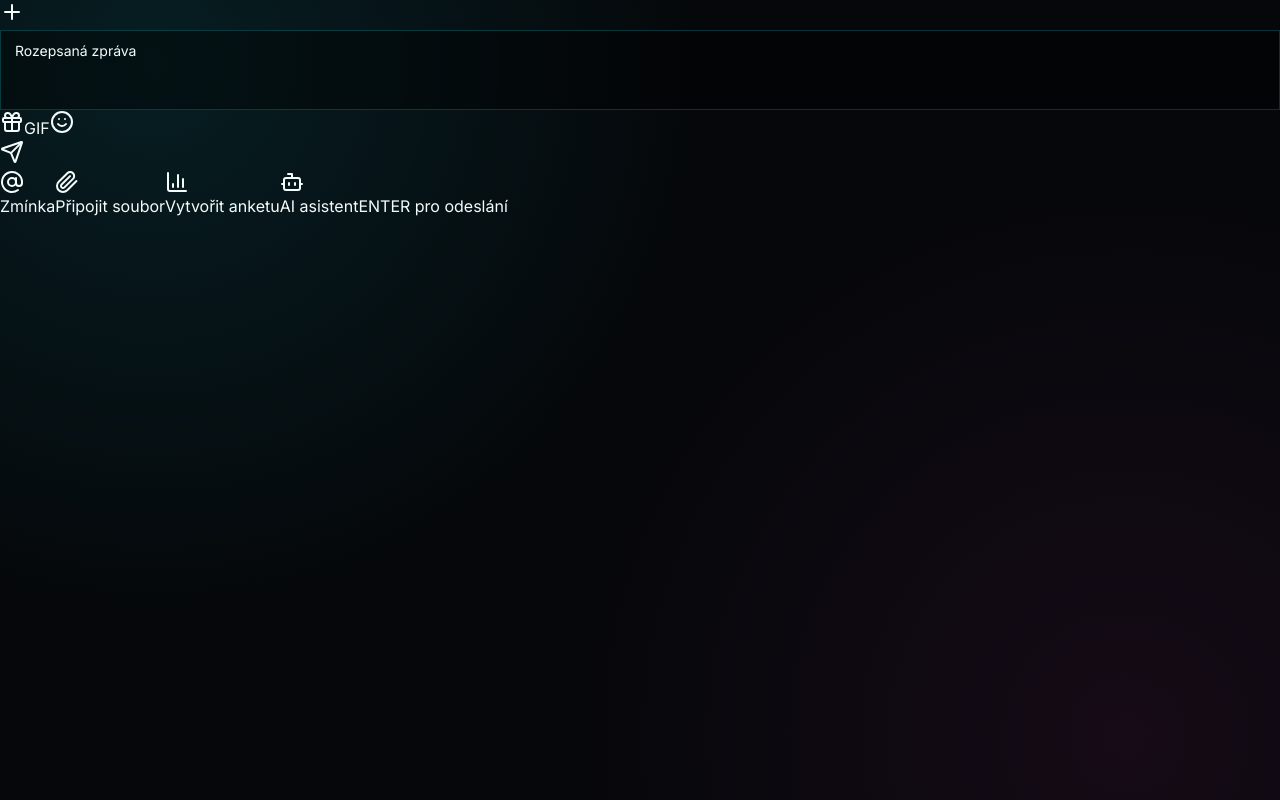
Test: community composer › rejects non-HTTPS GIF URLs without discarding the draft
Step 1. Click the button titled "Vložit GIF" → x=37, y=128, box [24, 116, 50, 140]
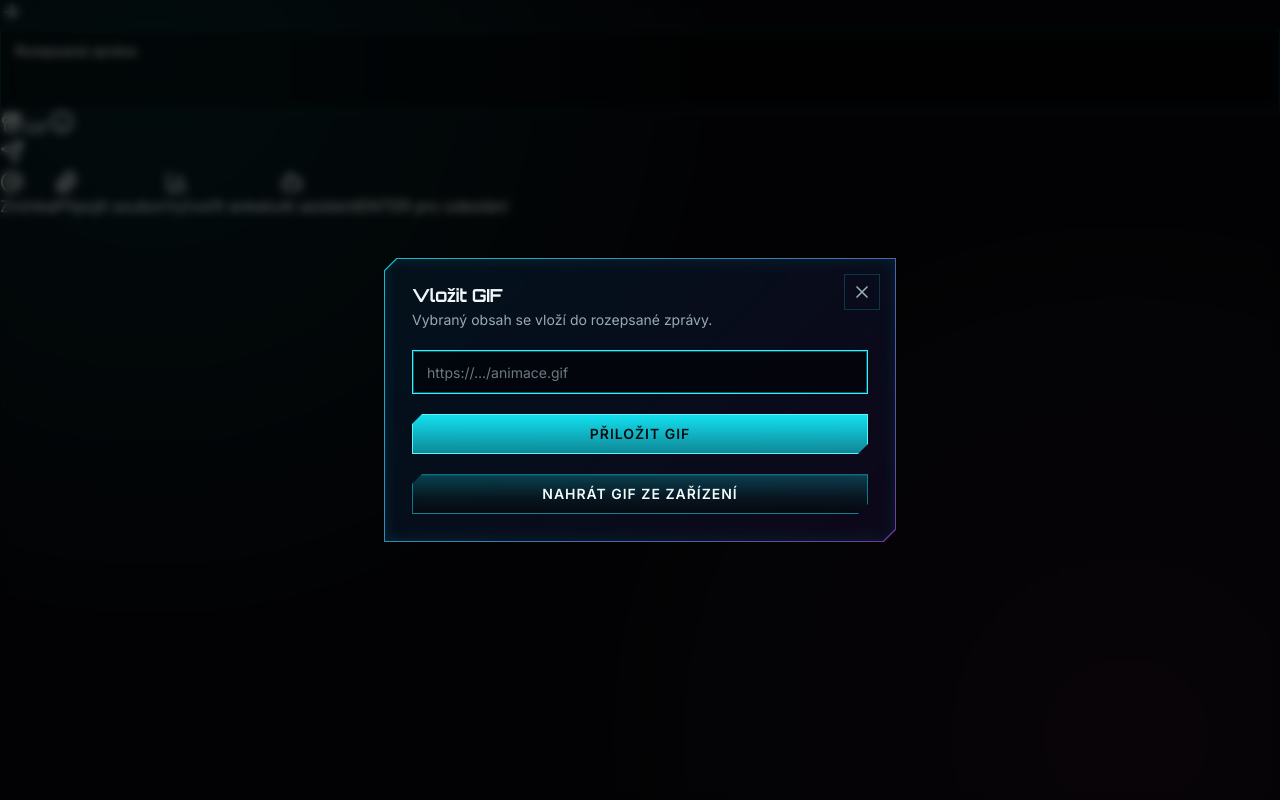
Step 2. Type "javascript:alert(1)" into the field named "HTTPS odkaz na GIF" → x=640, y=372, box [412, 350, 868, 394]
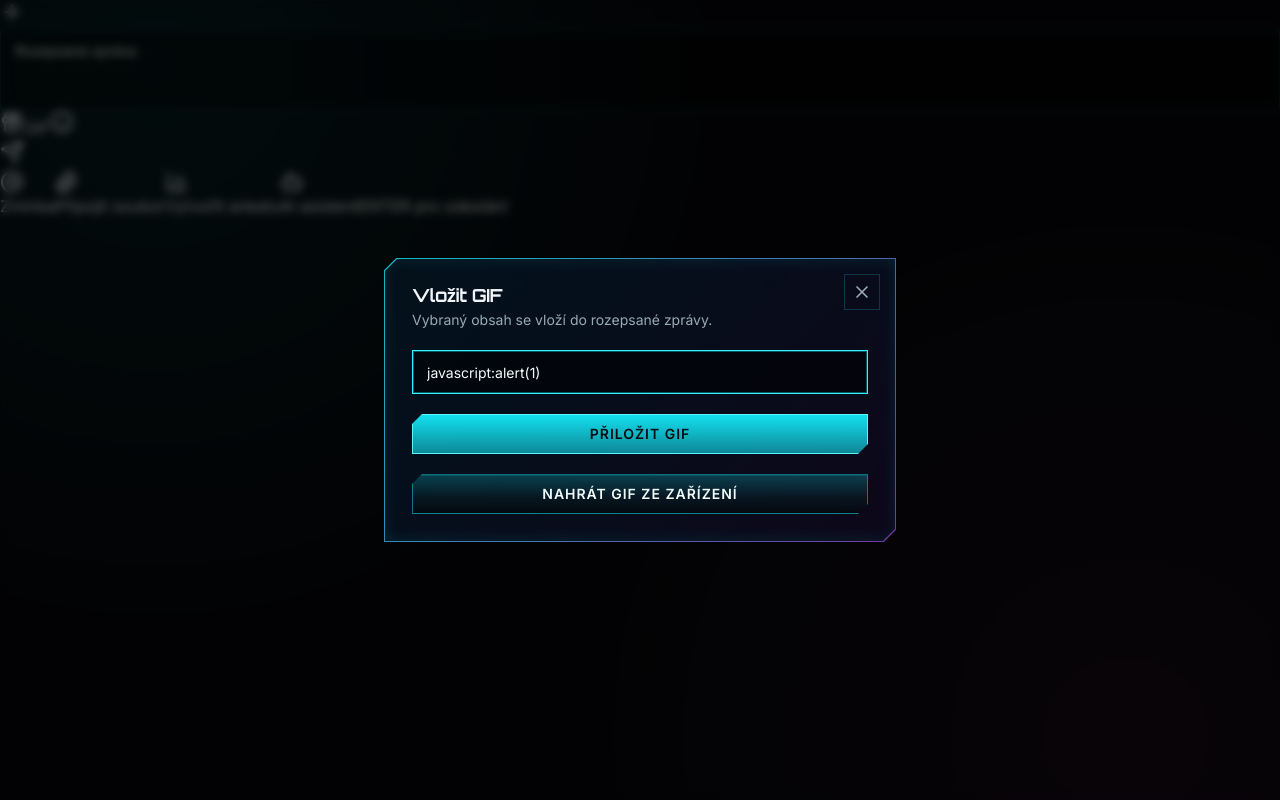
Step 3. Click the button "Přiložit GIF" → x=640, y=434, box [412, 414, 868, 454]
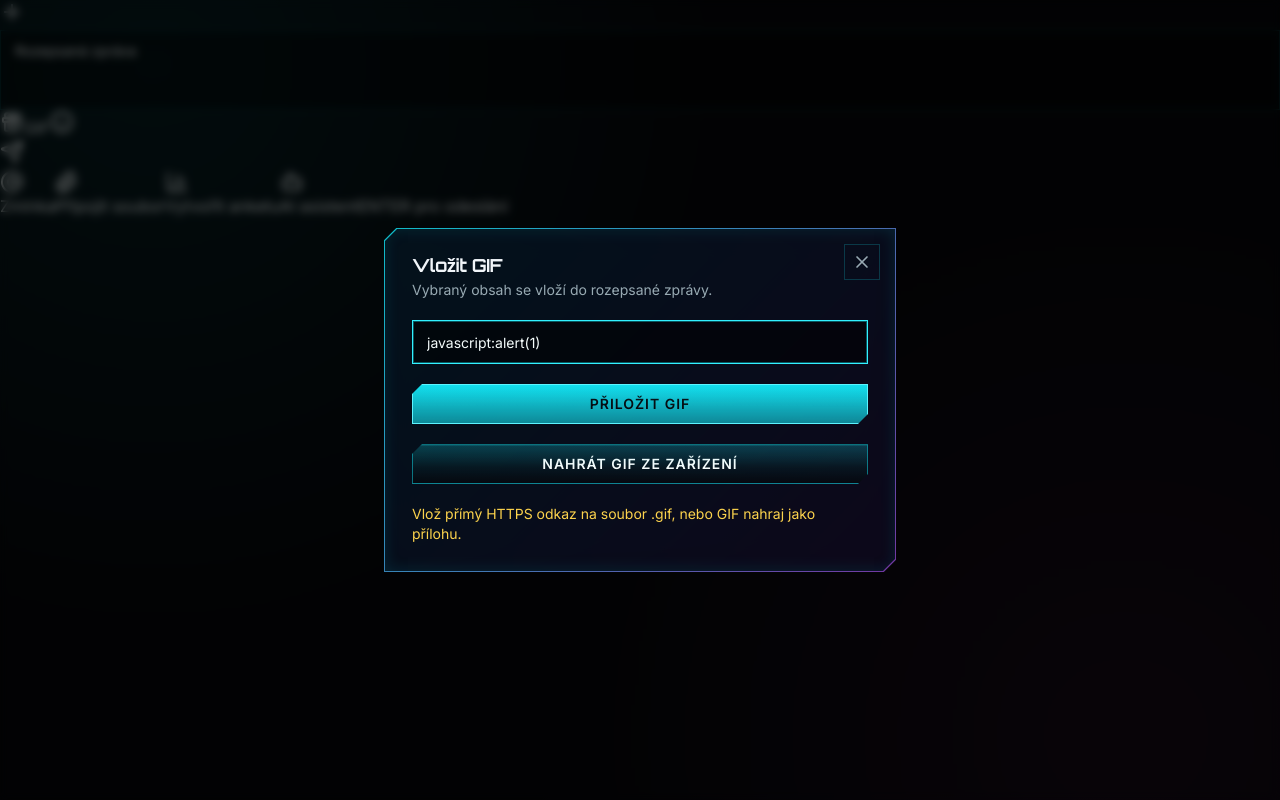
Expected: the message shows "HTTPS", [412, 505, 815, 542]
